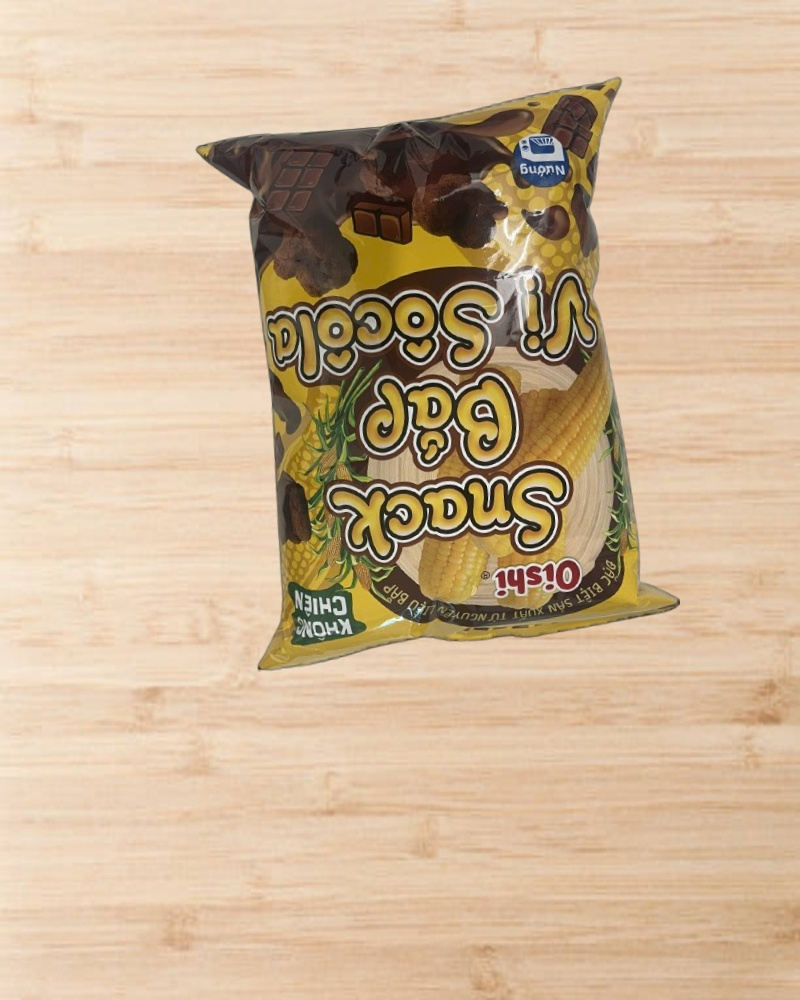Snack socola: (196, 79, 683, 671)
